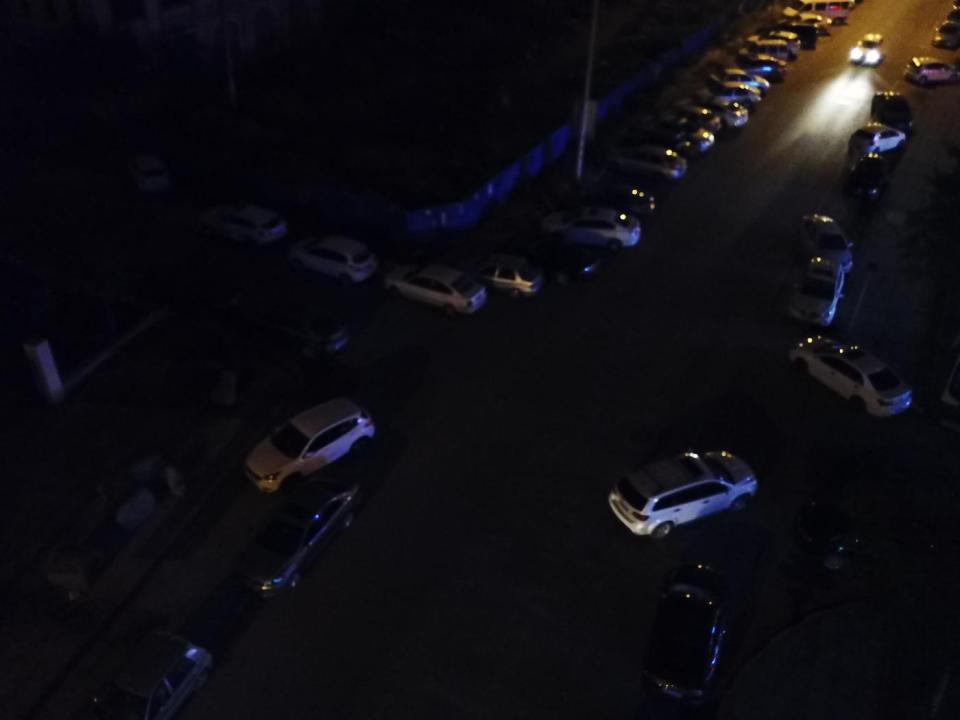car: (233, 473, 366, 601), (606, 444, 760, 542), (636, 558, 738, 704), (242, 395, 379, 492), (793, 495, 956, 571), (88, 631, 213, 718), (788, 331, 910, 416), (227, 282, 349, 356), (377, 256, 492, 317), (287, 228, 377, 288), (787, 248, 848, 329), (542, 206, 642, 253), (508, 236, 601, 286), (197, 194, 288, 245), (451, 250, 546, 297), (574, 178, 666, 221), (797, 210, 857, 274), (610, 145, 688, 181), (649, 112, 714, 155), (630, 127, 700, 164), (846, 119, 909, 158), (844, 149, 892, 200), (678, 95, 750, 129), (121, 145, 169, 194), (664, 103, 723, 140), (869, 84, 912, 134), (692, 82, 761, 110), (904, 53, 959, 88), (725, 53, 788, 83), (845, 29, 891, 68), (708, 67, 770, 93), (746, 31, 801, 58), (779, 13, 830, 37), (932, 19, 960, 48)
van: (780, 0, 850, 25), (763, 21, 819, 48), (739, 41, 789, 67)
